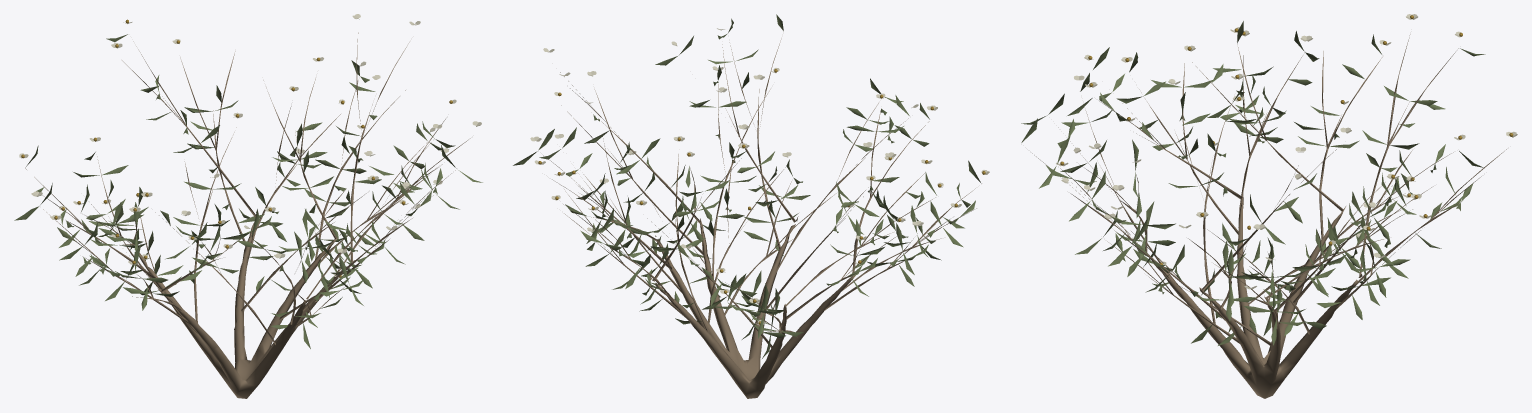
The model's file is Ciste_2_Niveau1.fbx.
3 views of the same model, side by side, from view 1: azimuth 30°, elevation 25°; view 2: azimuth 150°, elevation 25°; view 3: azimuth 270°, elevation 25° (orthographic). The views are drawn at different scales.
Parts seen in each view (by area): view 1: Ciste_2_Niveau1; view 2: Ciste_2_Niveau1; view 3: Ciste_2_Niveau1.
Boxes of the visible parts, box(x1,y1,x2,y2) form: Ciste_2_Niveau1: box(14, 14, 482, 398); Ciste_2_Niveau1: box(513, 14, 989, 398); Ciste_2_Niveau1: box(1021, 14, 1517, 398).
Size of the model in its own units: 94.79 by 69.39 by 90.15.
